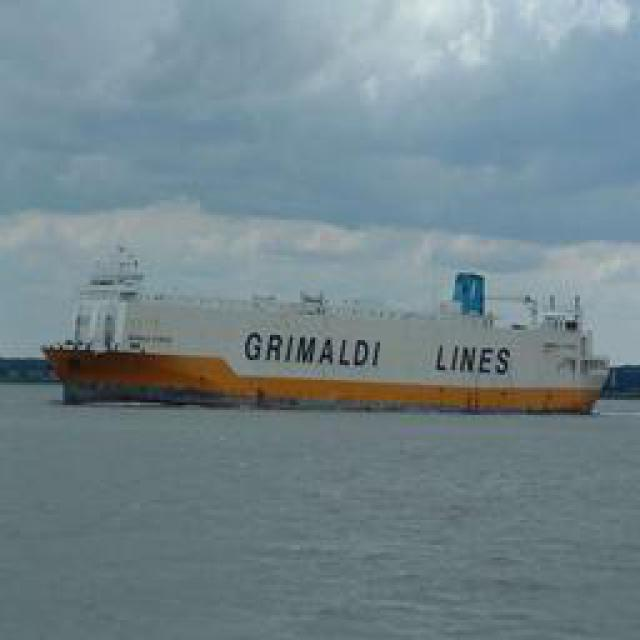Ship: (55, 259, 610, 412)
